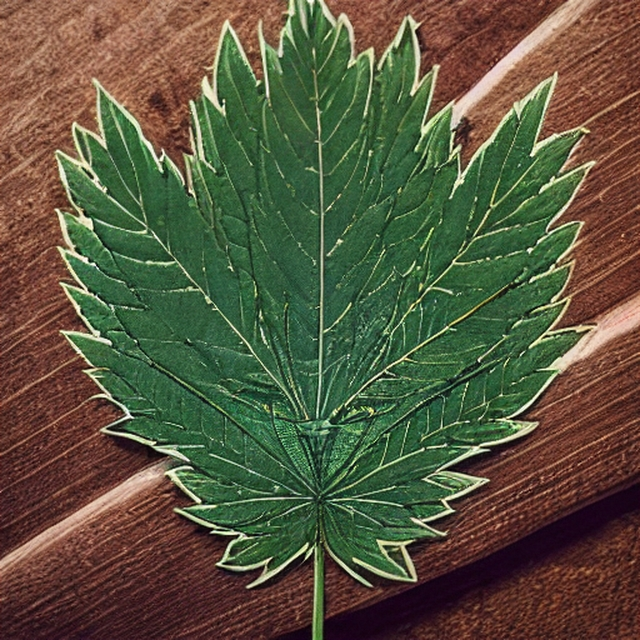Marijuana Leaf: (50, 1, 598, 630)
